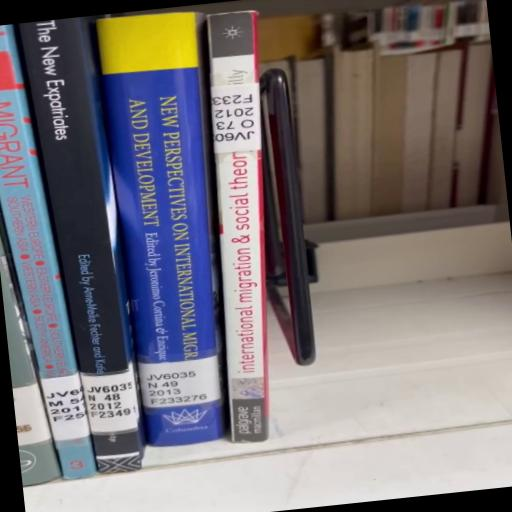reverse: (208, 13, 315, 444)
